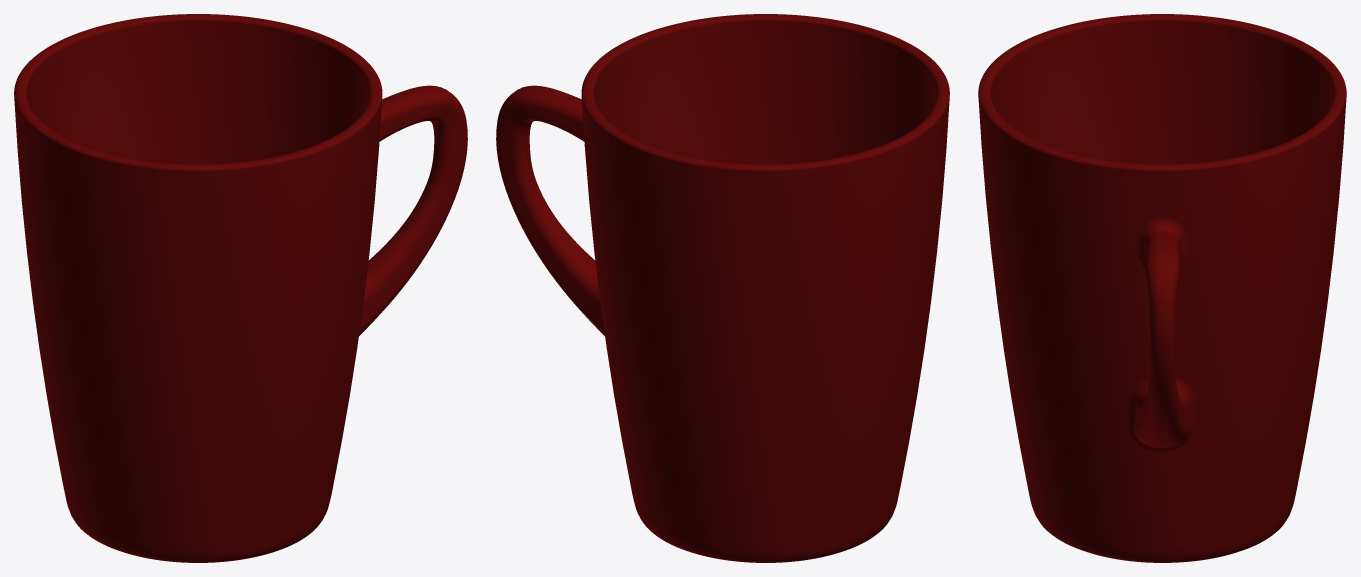
The model's file is Mariem3.glb.
The picture shows the model from 3 angles, left to right: view 1: azimuth 30°, elevation 25°; view 2: azimuth 150°, elevation 25°; view 3: azimuth 270°, elevation 25°; orthographic projection.
Parts seen in each view (by area): view 1: Glass(44998203-4648-4C6A-915D-BA6A3B90A840), Layer 01(91701E39-F243-42C9-BA0A-5C6A236B42D6)_0; view 2: Glass(44998203-4648-4C6A-915D-BA6A3B90A840), Layer 01(91701E39-F243-42C9-BA0A-5C6A236B42D6)_0; view 3: Glass(44998203-4648-4C6A-915D-BA6A3B90A840), Layer 01(91701E39-F243-42C9-BA0A-5C6A236B42D6)_0.
Part boxes in pixels (box(x1,y1,x2,y2)): Glass(44998203-4648-4C6A-915D-BA6A3B90A840): box(14, 14, 467, 562); Layer 01(91701E39-F243-42C9-BA0A-5C6A236B42D6)_0: box(47, 86, 348, 164); Glass(44998203-4648-4C6A-915D-BA6A3B90A840): box(496, 14, 949, 562); Layer 01(91701E39-F243-42C9-BA0A-5C6A236B42D6)_0: box(615, 86, 916, 164); Glass(44998203-4648-4C6A-915D-BA6A3B90A840): box(978, 14, 1346, 562); Layer 01(91701E39-F243-42C9-BA0A-5C6A236B42D6)_0: box(1011, 86, 1313, 164).
Size of the model in its own units: 0.0934 by 0.0881 by 0.0698.
